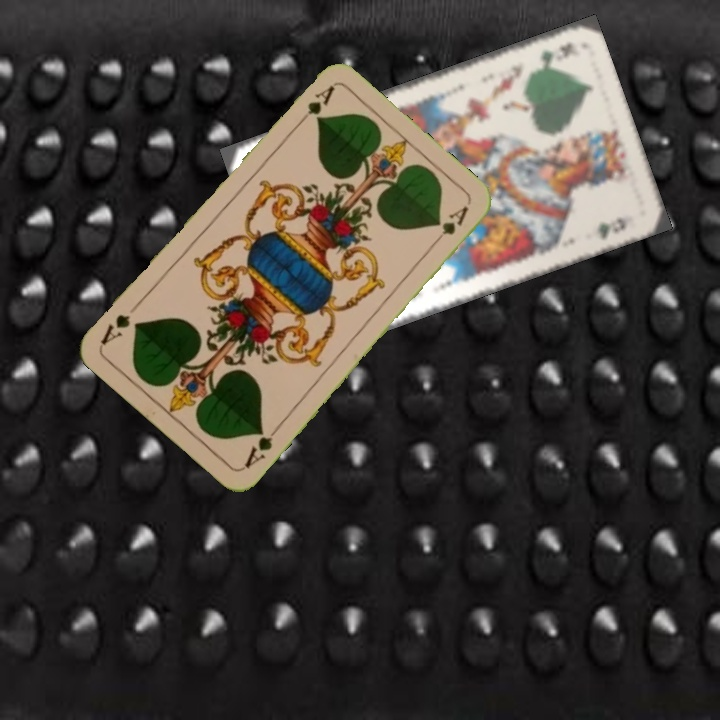GA: (292, 81, 337, 131), (240, 421, 283, 471)
GK: (536, 38, 581, 69)
